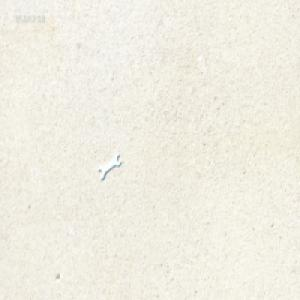Wrench: (98, 149, 121, 178)
